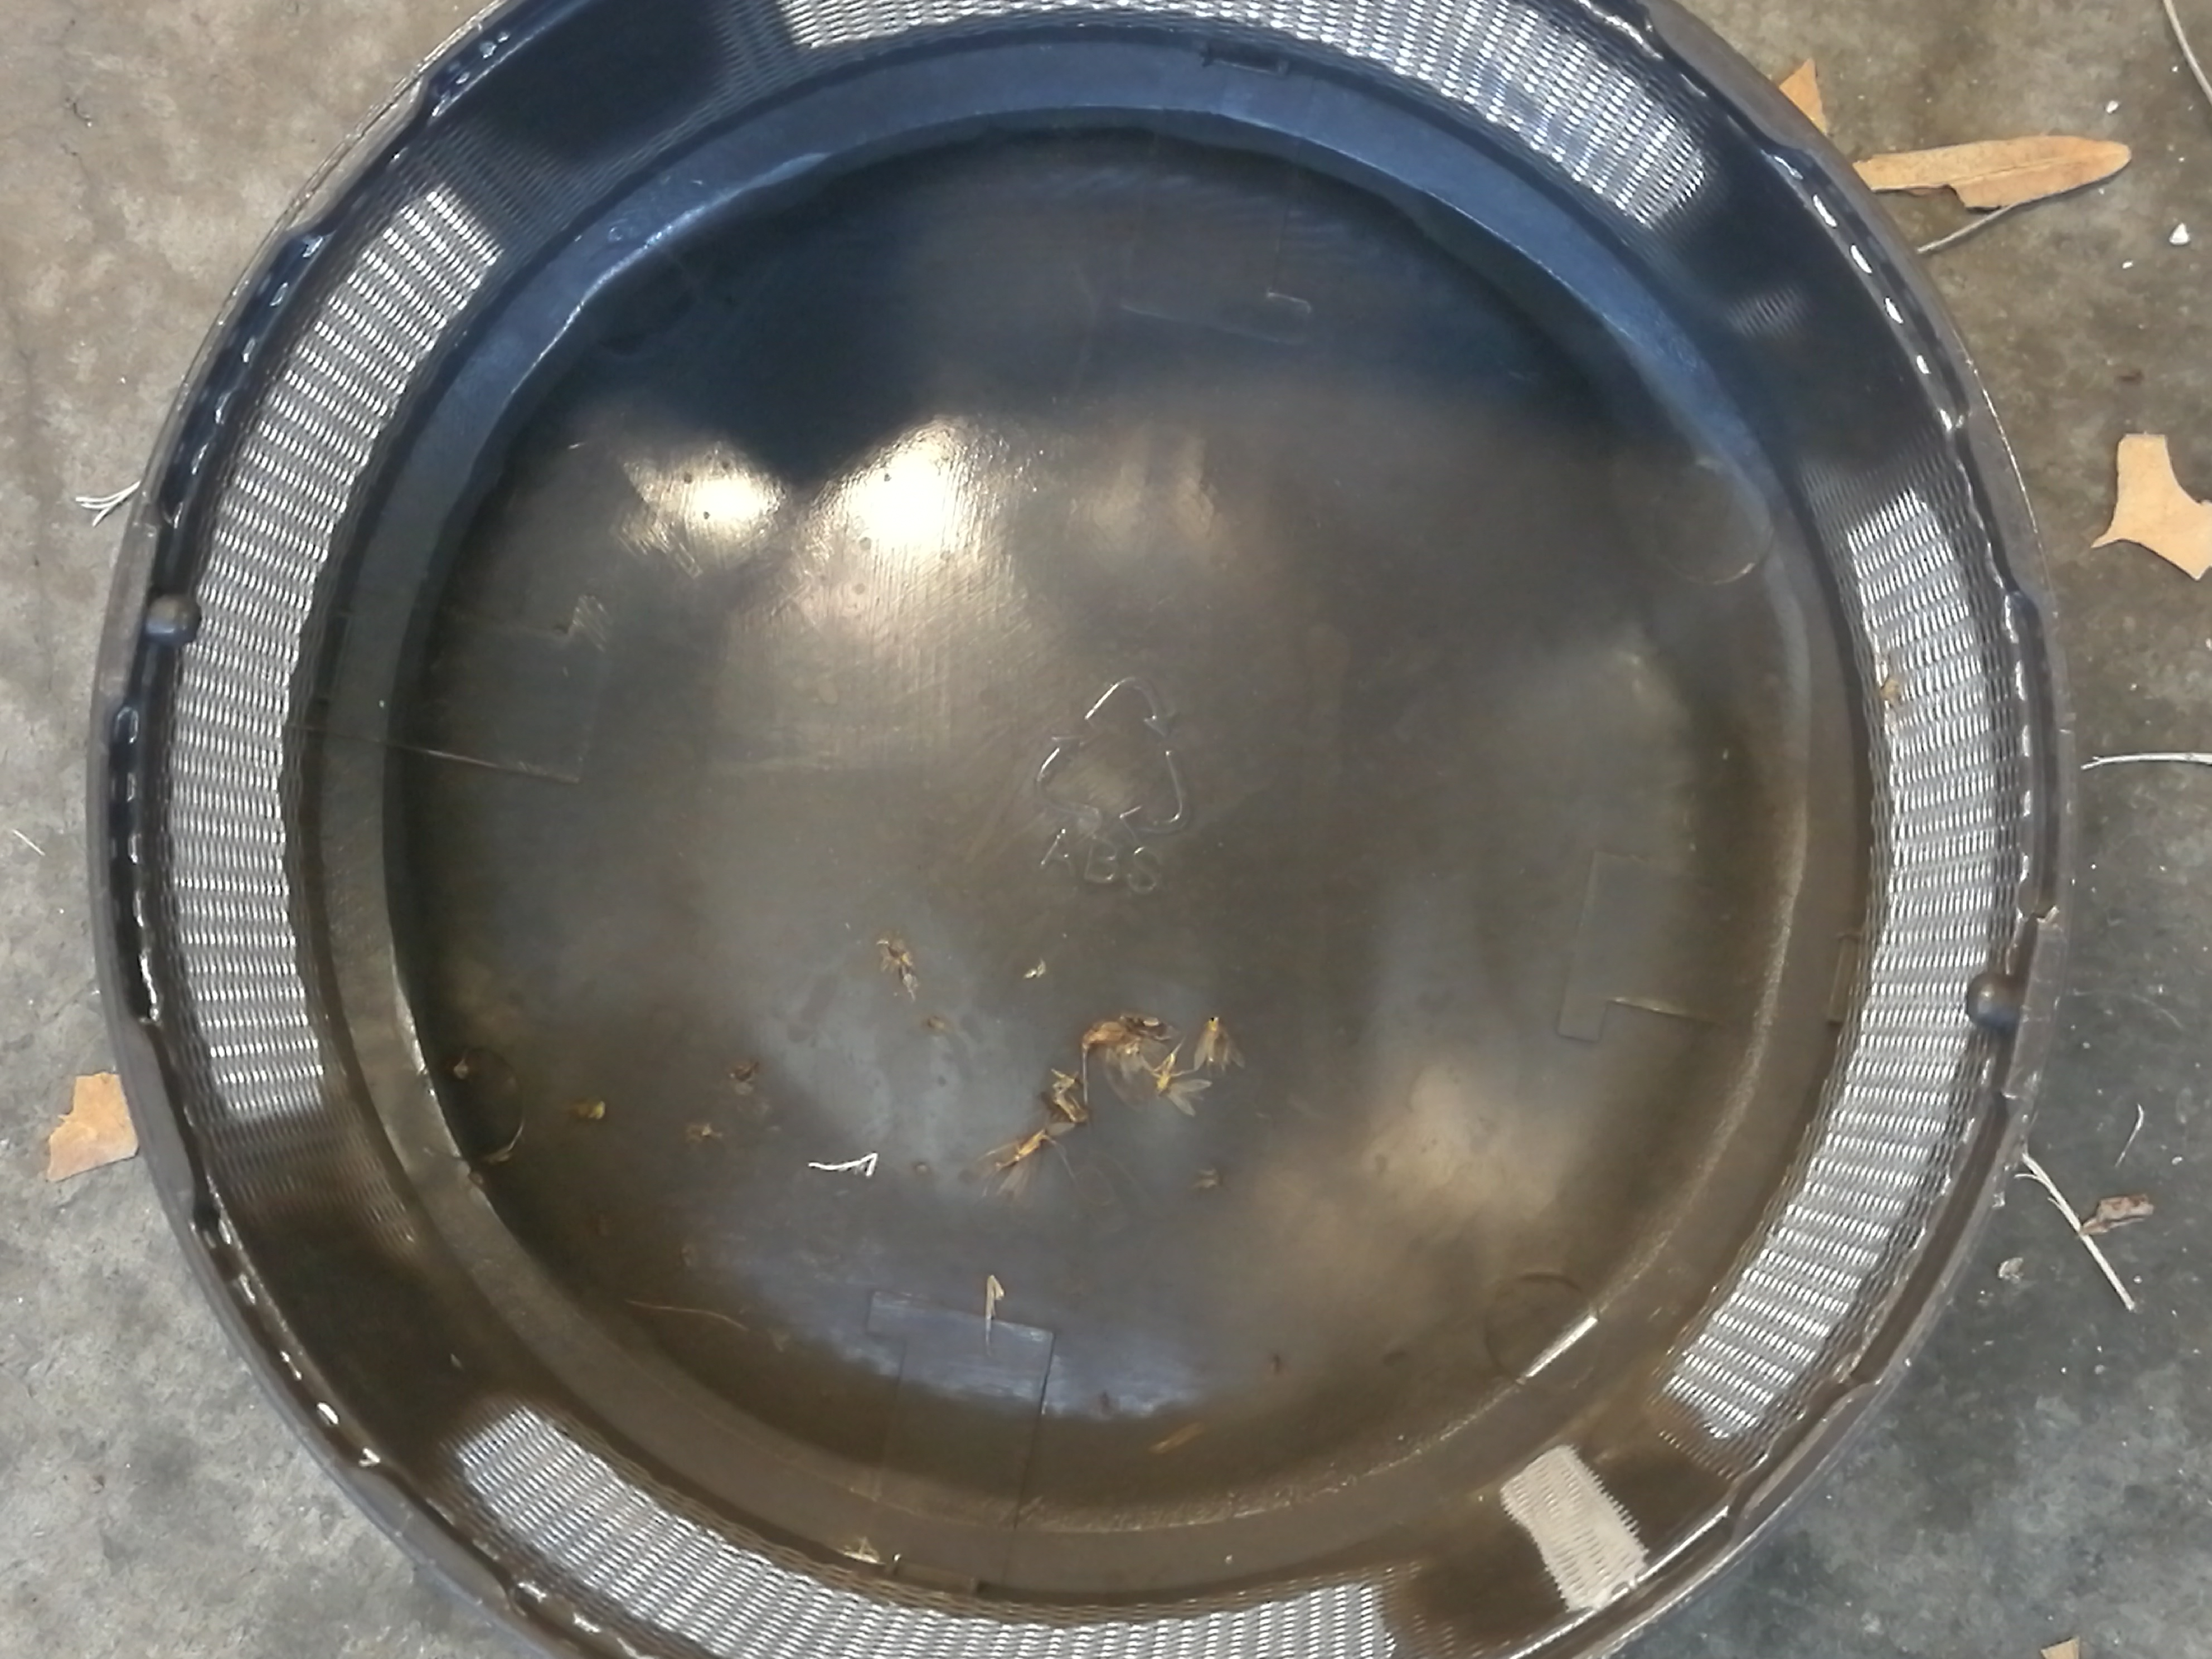mosquito: (1085, 1019, 1148, 1073), (1157, 1073, 1211, 1117), (1118, 1011, 1174, 1040)
moth: (989, 1129, 1045, 1194), (1195, 1016, 1245, 1073)
